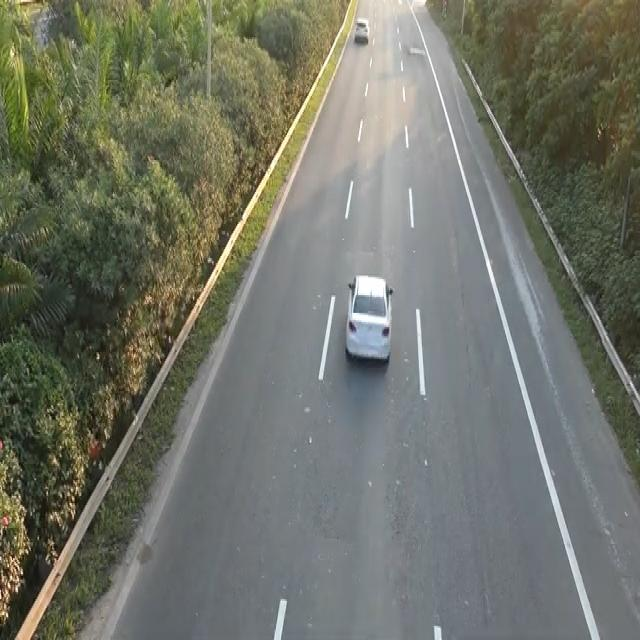bus: (343, 268, 395, 366)
car: (353, 16, 370, 43)
